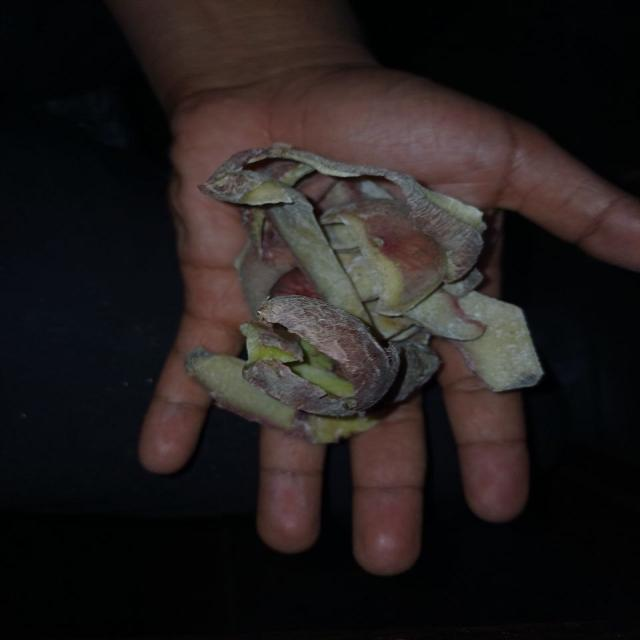organic: (182, 139, 545, 445)
